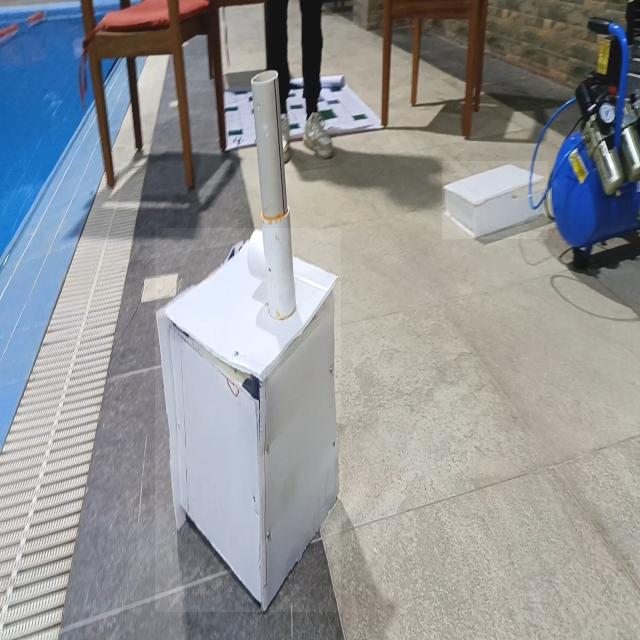Cube: (155, 228, 341, 612)
Cuboid: (442, 161, 548, 239)
